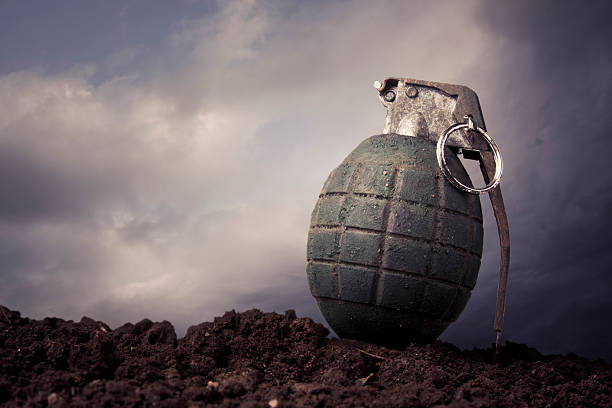e1: (306, 75, 512, 356)
